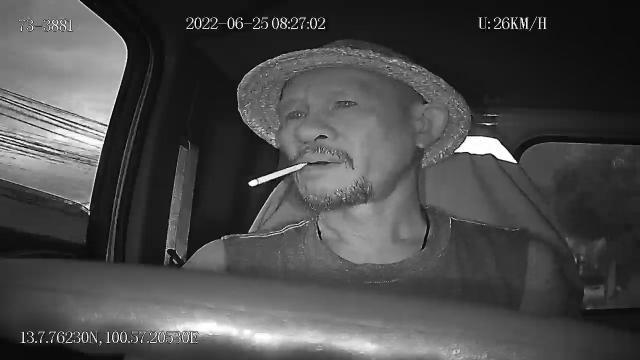SafeDriving: (328, 92, 364, 114), (282, 102, 312, 123)
Smoking: (249, 162, 309, 188)
